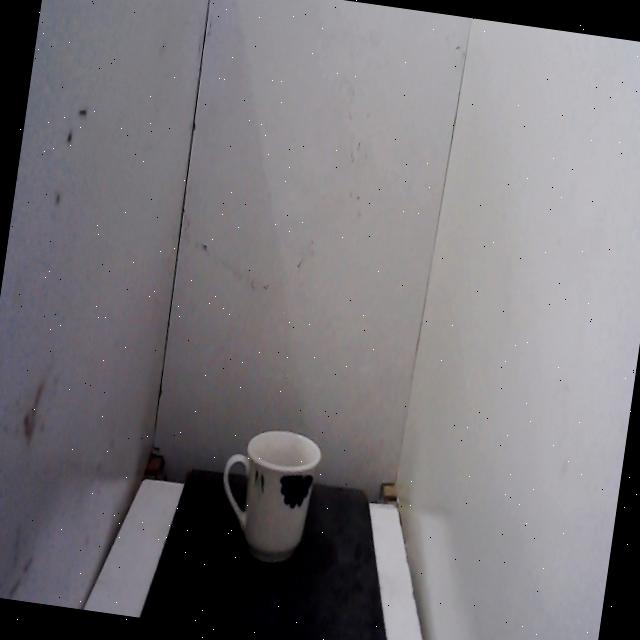vidro: (207, 412, 333, 582)
